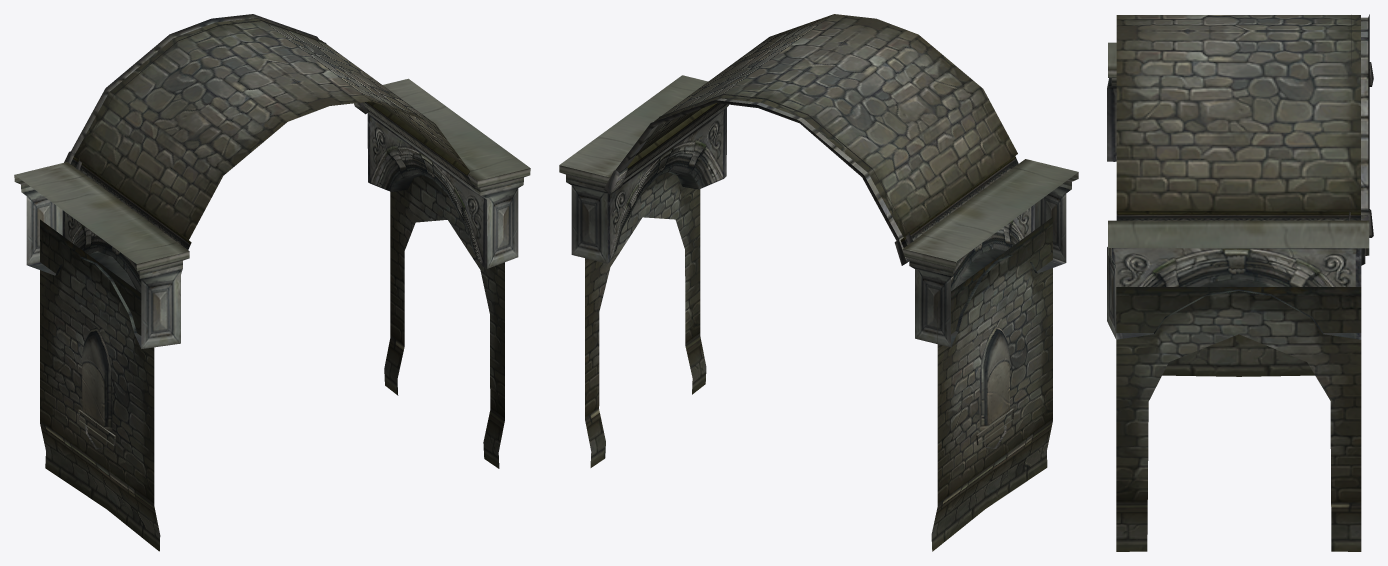
File: DN_1_4_ldao03_b01.FBX
3 views of the same model, side by side, from view 1: azimuth 30°, elevation 25°; view 2: azimuth 150°, elevation 25°; view 3: azimuth 270°, elevation 25° (orthographic). The views are drawn at different scales.
Visible parts, largest first — view 1: DN_1_4_ldao03_b01; view 2: DN_1_4_ldao03_b01; view 3: DN_1_4_ldao03_b01.
Part boxes in pixels (x1,y1,x2,y2): DN_1_4_ldao03_b01: (14, 14, 530, 551); DN_1_4_ldao03_b01: (559, 14, 1078, 551); DN_1_4_ldao03_b01: (1107, 14, 1373, 551).
Bounding box in the file's own units: 902 × 886 × 494.
